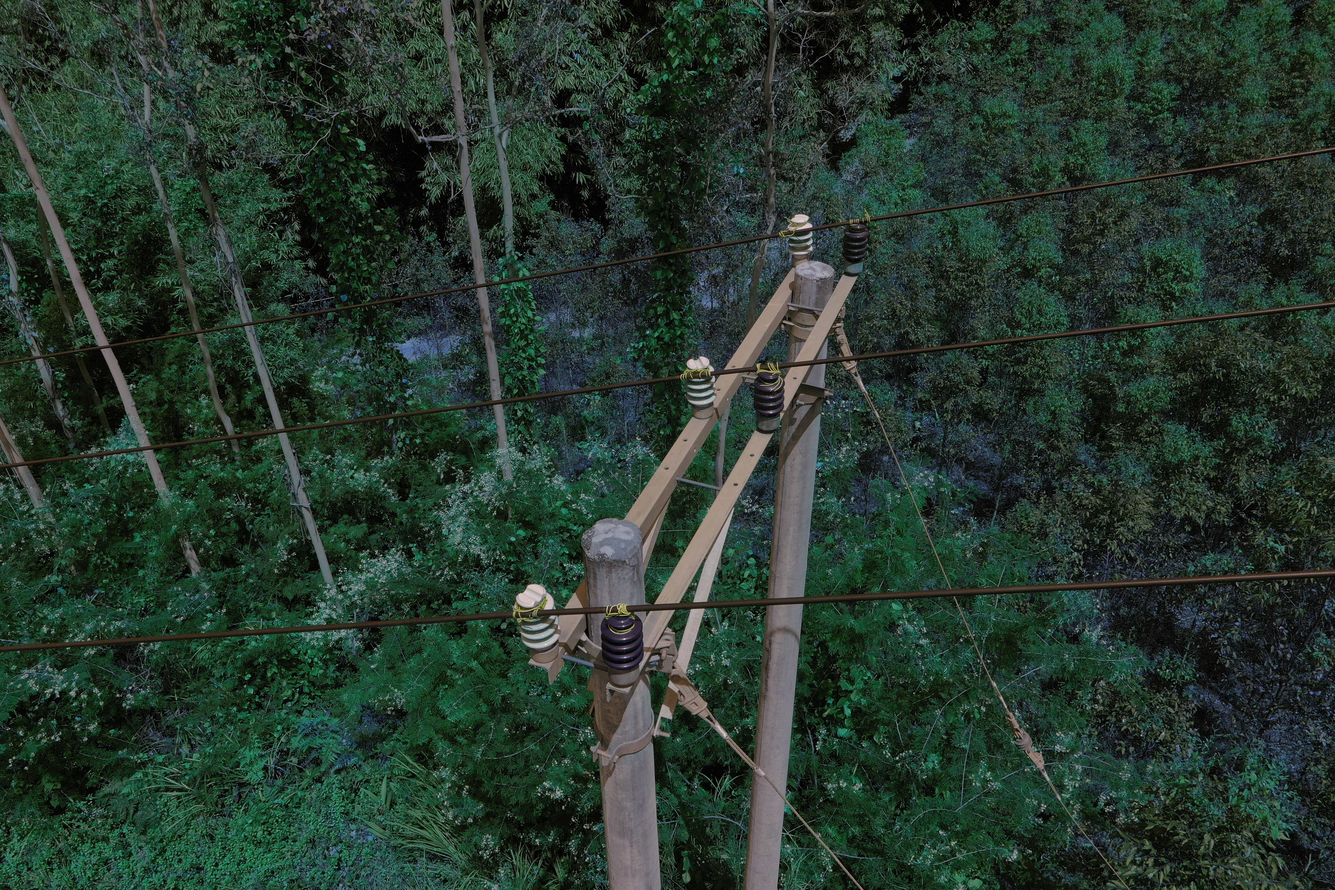severe_soiling_no_discharge_whole: (509, 585, 562, 667), (679, 357, 719, 420), (838, 216, 869, 279), (785, 213, 815, 267)
